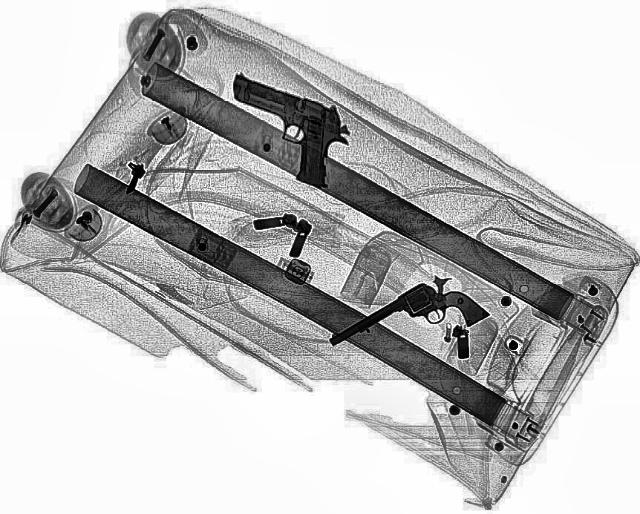Gun: (190, 72, 368, 188), (322, 268, 492, 382)
